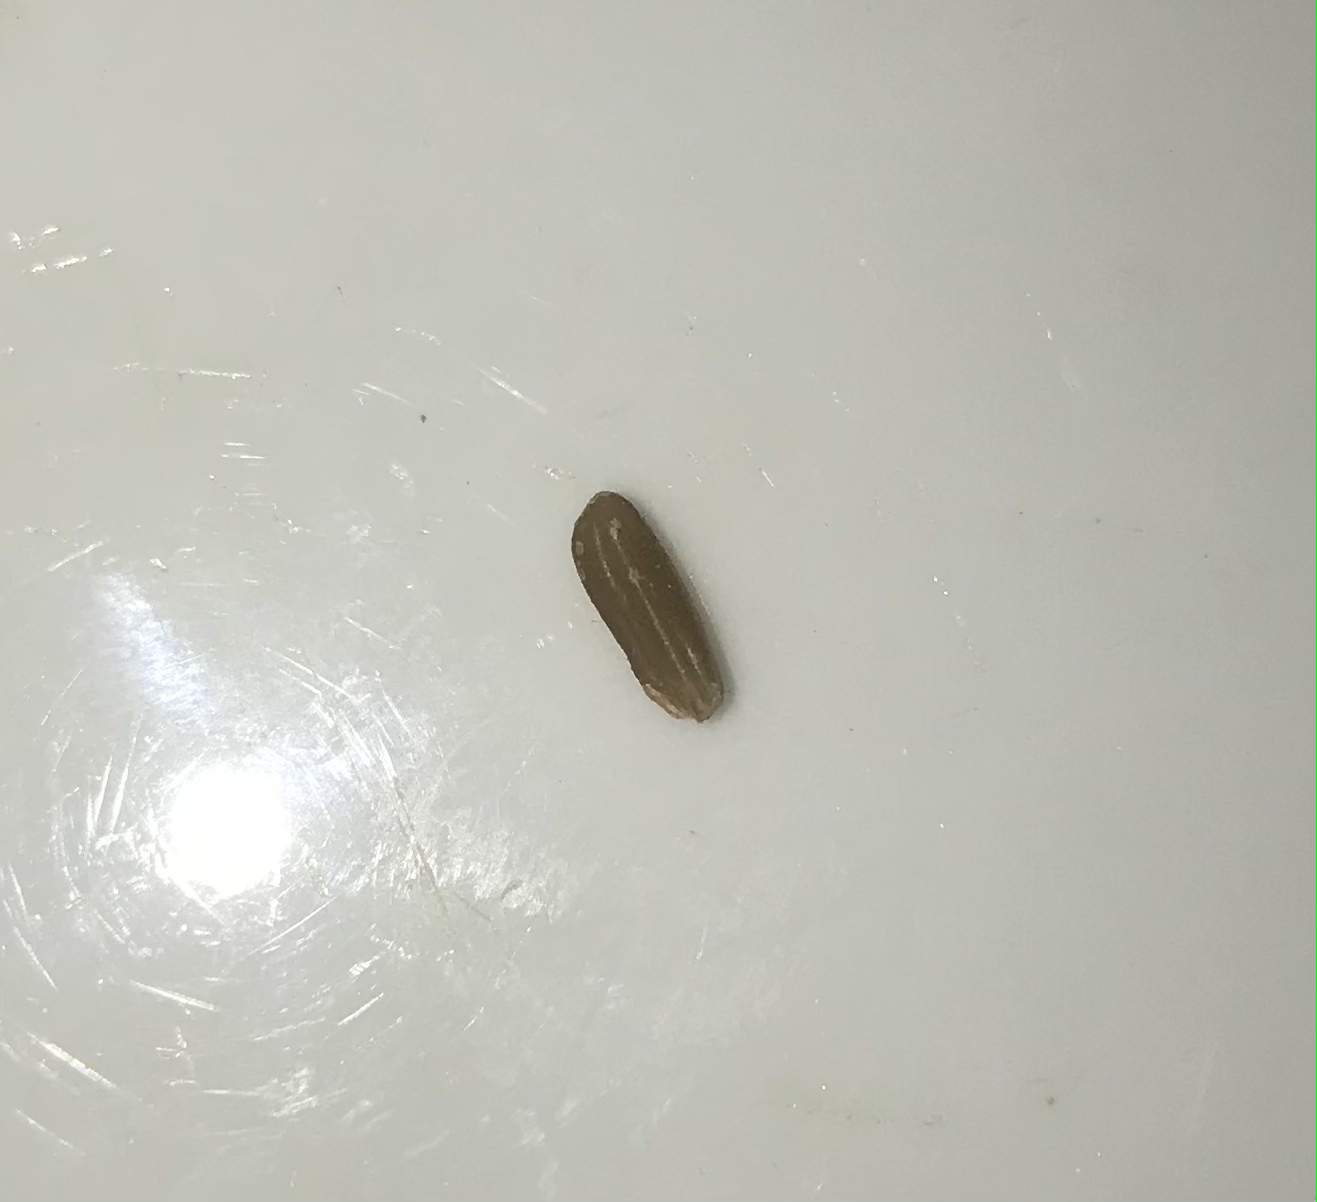Gao Lut Do: (556, 481, 745, 735)
